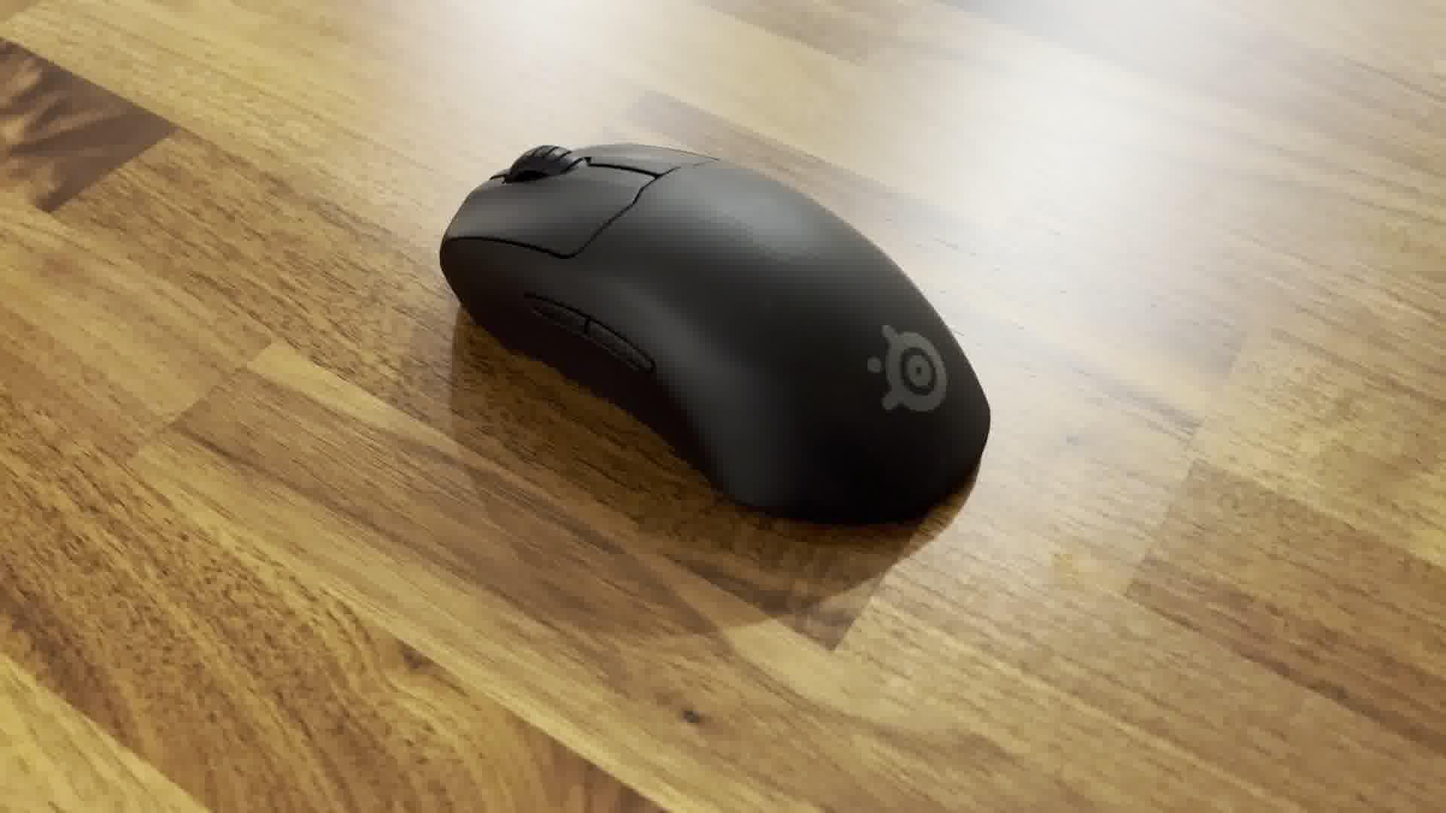steel-series: (436, 134, 996, 532)
